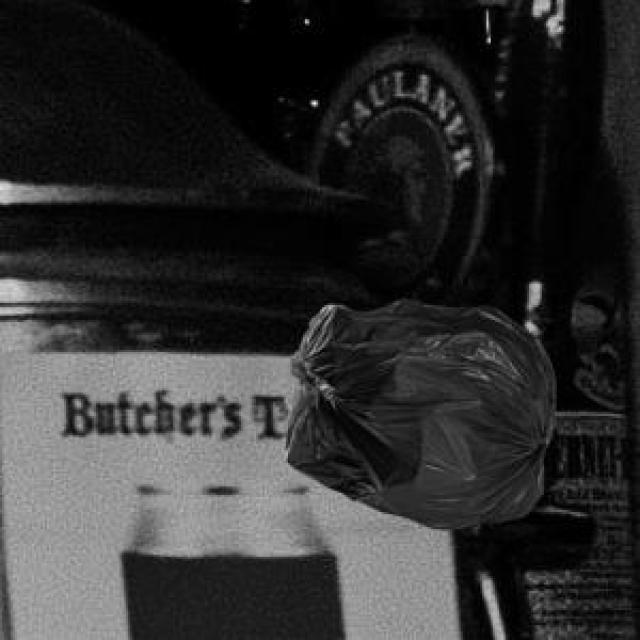miscellaneous trash: (282, 297, 550, 525)
